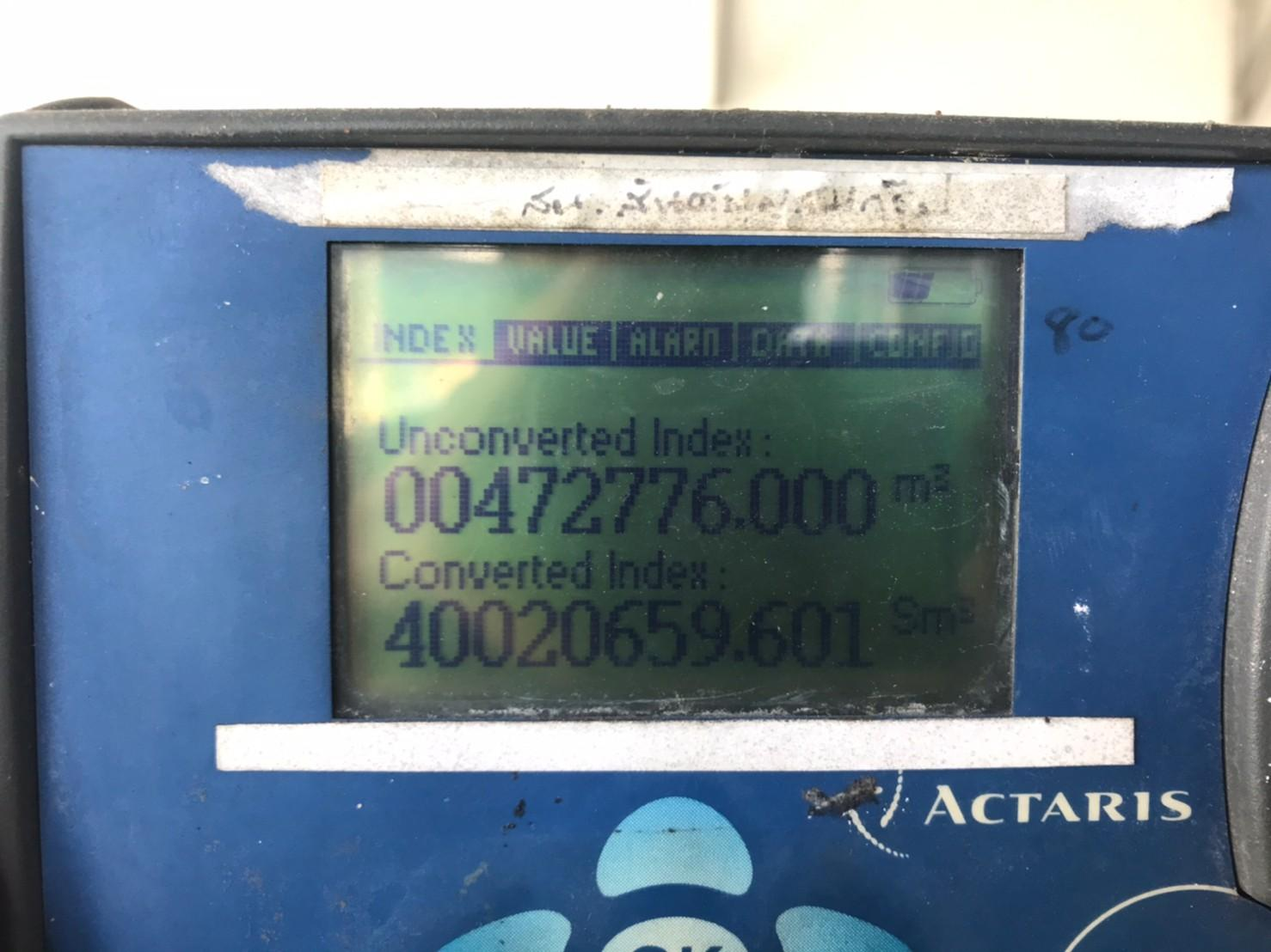digital_screen: (323, 243, 1024, 725)
